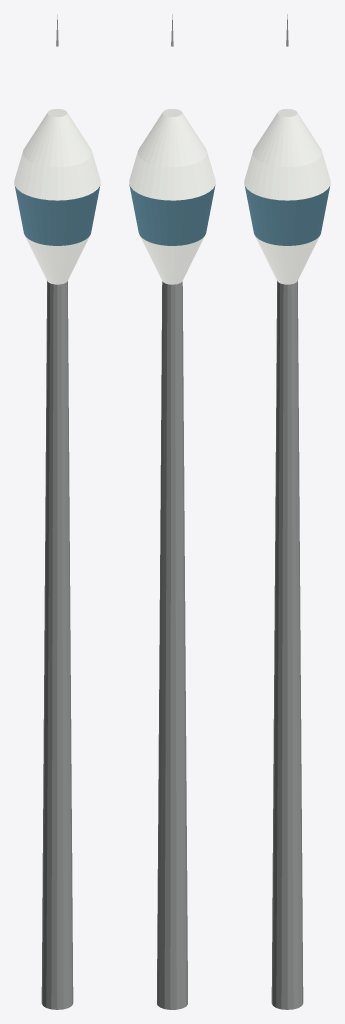
Rendered from source.glb.
3 views of the same model, side by side, from view 1: azimuth 90°, elevation 25°; view 2: azimuth 150°, elevation 25°; view 3: azimuth 270°, elevation 25° (orthographic).
Parts seen in each view (by area): view 1: worldgen; view 2: worldgen; view 3: worldgen.
Boxes of the visible parts, box(x1,y1,x2,y2) form: worldgen: box(14, 14, 100, 1009); worldgen: box(129, 14, 215, 1009); worldgen: box(244, 14, 330, 1009).
Size of the model in its own units: 44 by 553 by 44.
